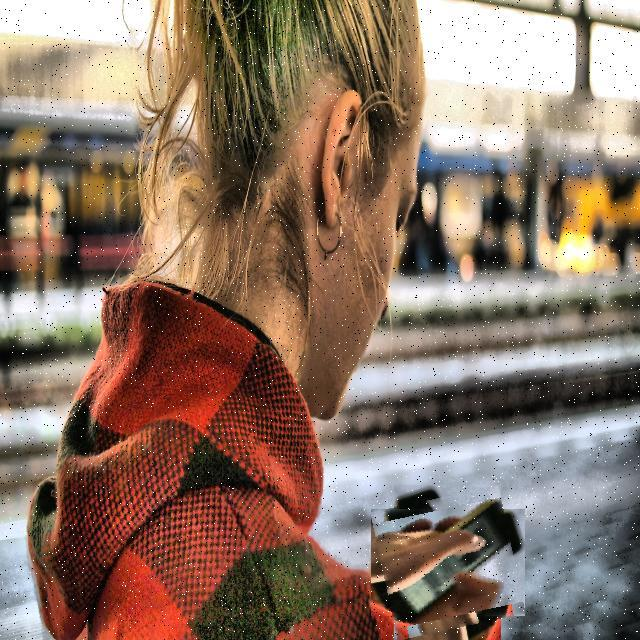Phone: (376, 491, 519, 634)
